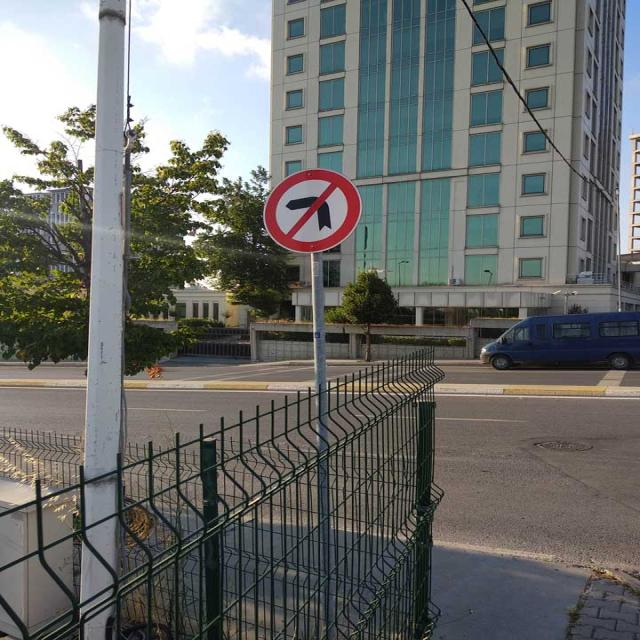soladonulmez: (263, 170, 362, 253)
